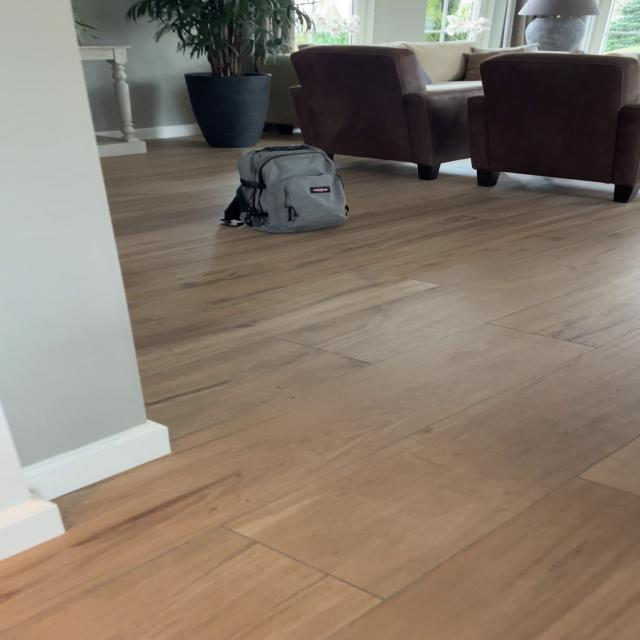backpack: (218, 140, 354, 238)
